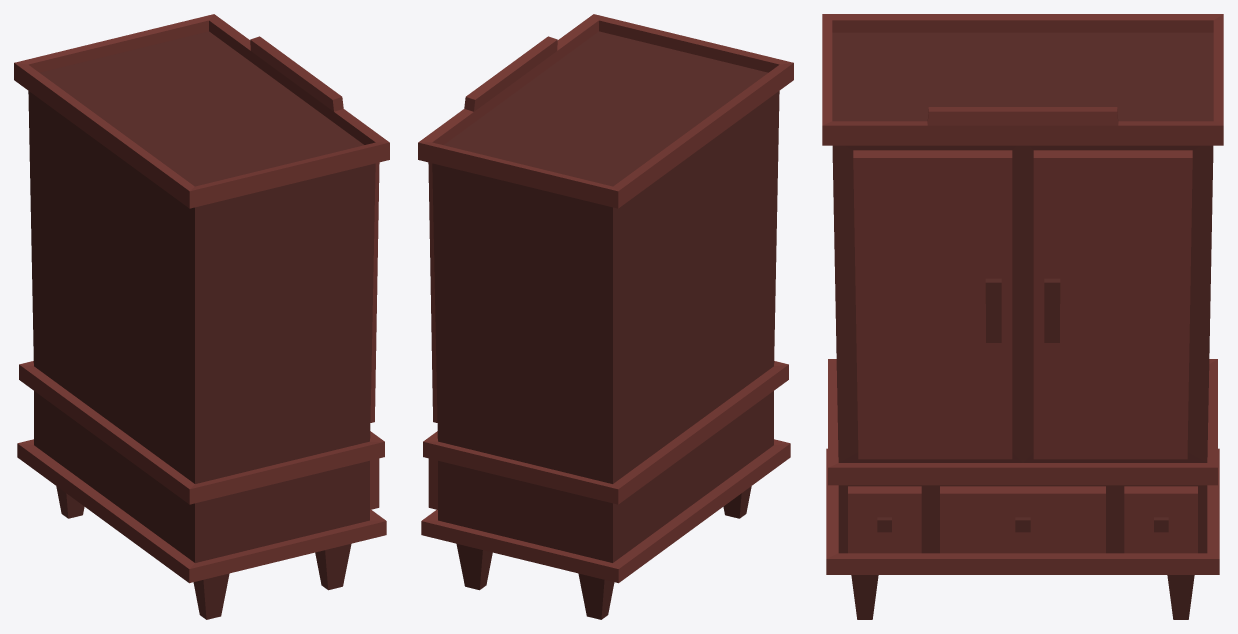
The model's file is quaternius-furniture-closet-2.glb.
3 views of the same model, side by side, from view 1: azimuth 30°, elevation 25°; view 2: azimuth 150°, elevation 25°; view 3: azimuth 270°, elevation 25° (orthographic). The views are drawn at different scales.
Visible parts, largest first — view 1: Closet2; view 2: Closet2; view 3: Closet2.
Boxes of the visible parts, x1,y1,x2,y2 form: Closet2: (14,14,389,619); Closet2: (418,14,793,619); Closet2: (822,14,1223,619).
Size of the model in its own units: 0.4755 by 0.9958 by 0.6896.
